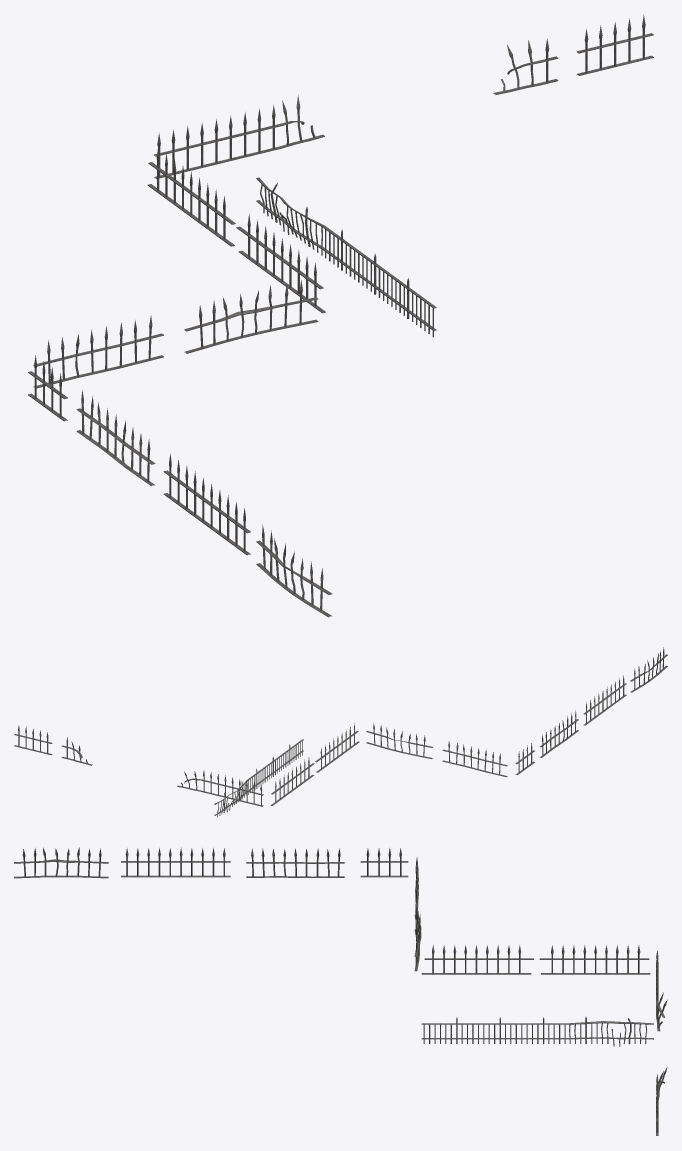
File: Cemetery_STR_OuterWall_01_Fence.fbx
3 views of the same model, one above another, from view 1: azimuth 30°, elevation 25°; view 2: azimuth 150°, elevation 25°; view 3: azimuth 270°, elevation 25° (orthographic). The views are drawn at different scales.
Visible parts, largest first — view 1: Cemetery_STR_OuterWall_01_Fence; view 2: Cemetery_STR_OuterWall_01_Fence; view 3: Cemetery_STR_OuterWall_01_Fence.
Boxes of the visible parts, x1=… form: Cemetery_STR_OuterWall_01_Fence: x1=28, y1=15, x2=653, y2=617; Cemetery_STR_OuterWall_01_Fence: x1=14, y1=647, x2=667, y2=817; Cemetery_STR_OuterWall_01_Fence: x1=14, y1=847, x2=667, y2=1135.
Bounding box in the file's own units: 2292 × 271 × 2415.
Materials: 1 (1 with a texture image).
